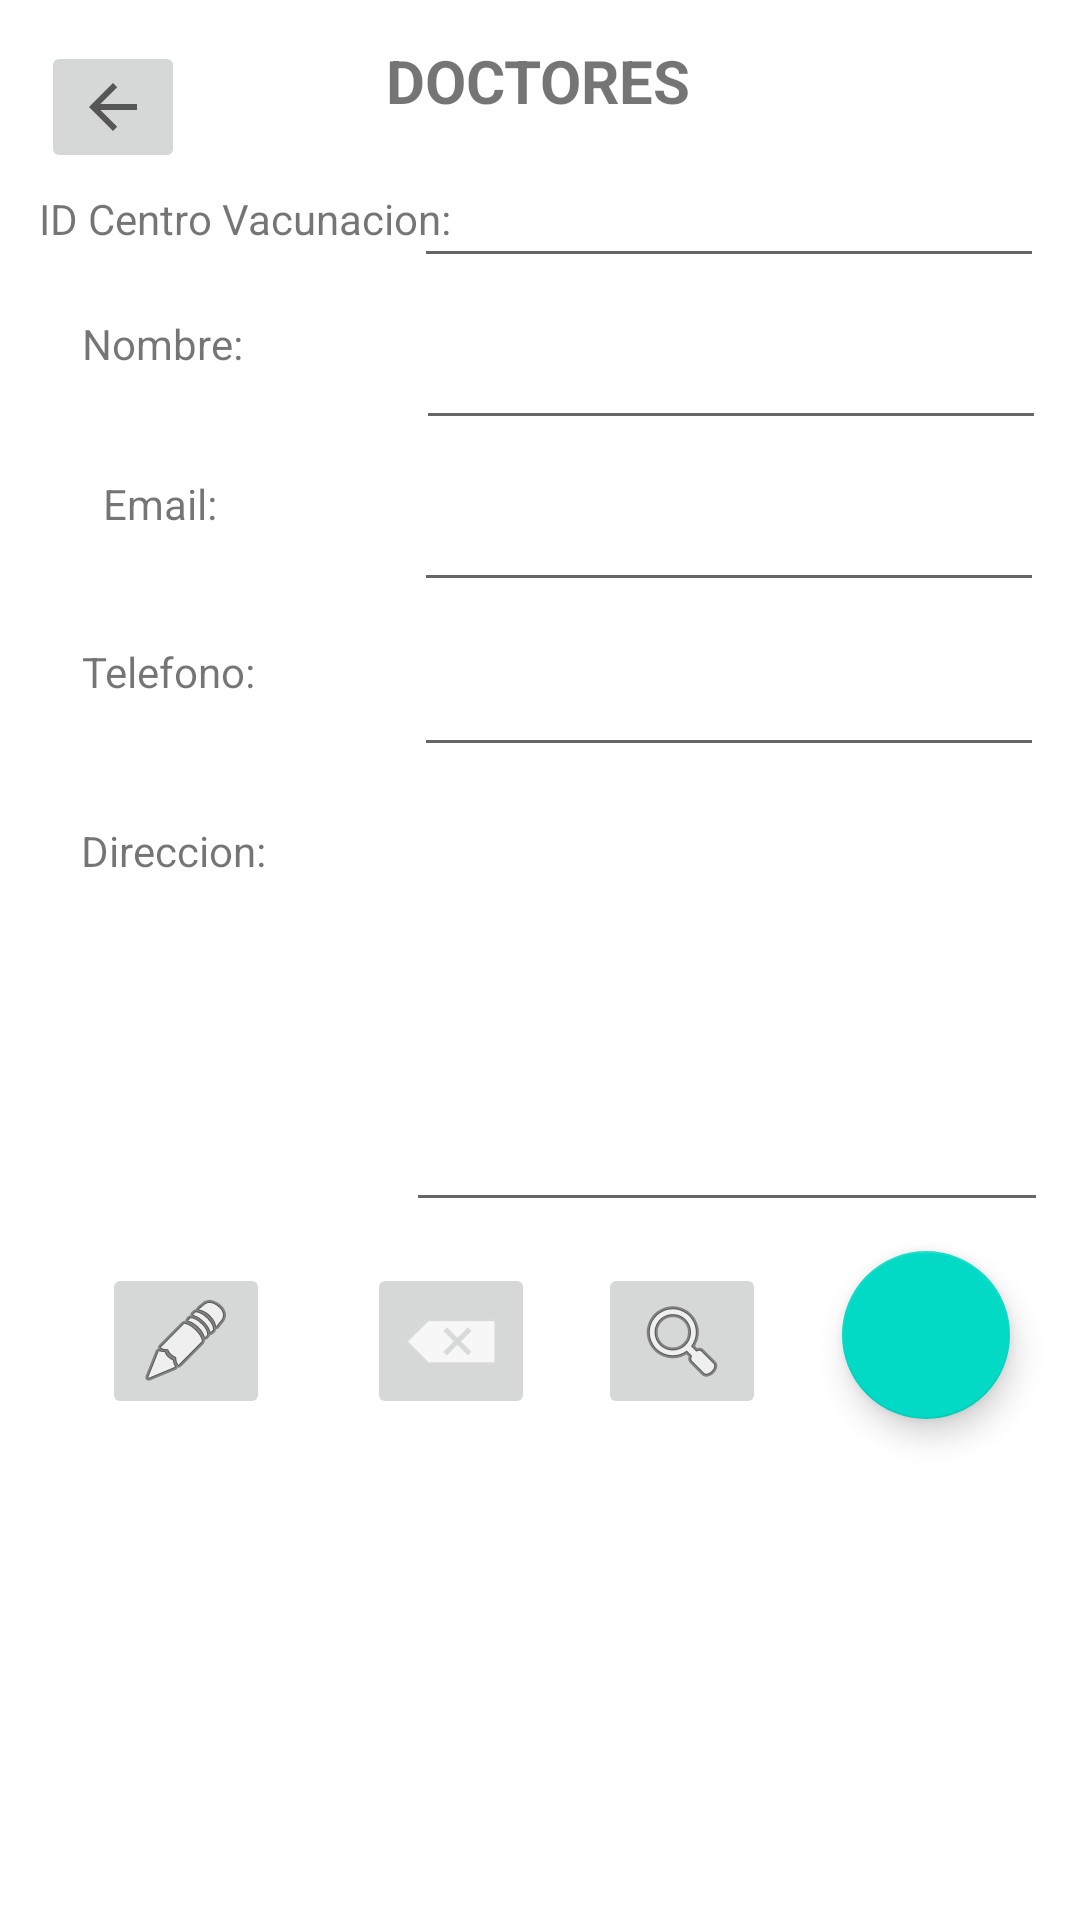

Locate icon controls on the screen. Image size 1080 x 1920, boxes as (x1, y1, x2, y2).
delete: (379, 1281, 523, 1401)
edit: (114, 1281, 258, 1401)
search: (610, 1281, 754, 1401)
